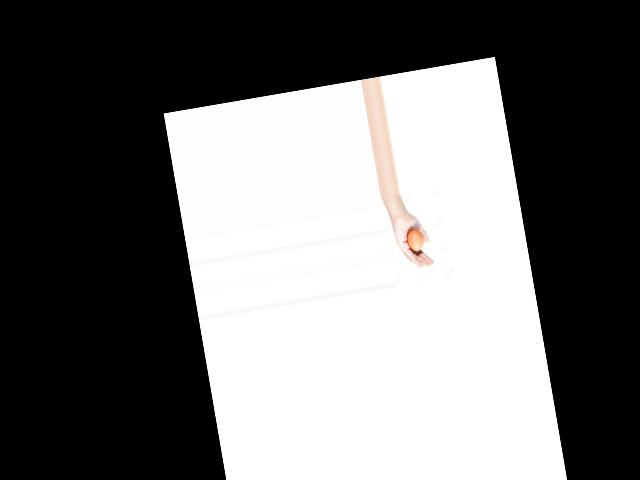egg: (405, 228, 425, 252)
